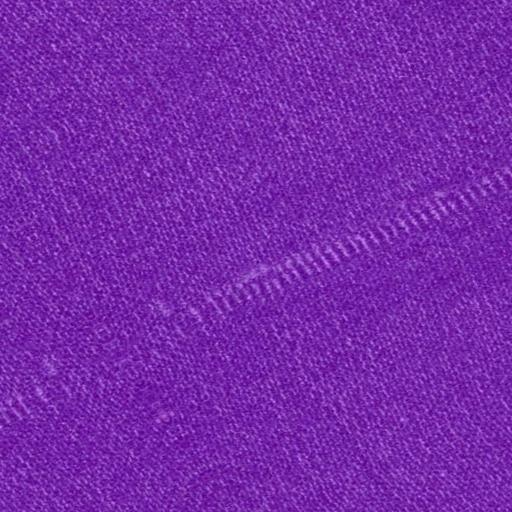slub: (179, 163, 512, 337), (1, 378, 45, 436)
